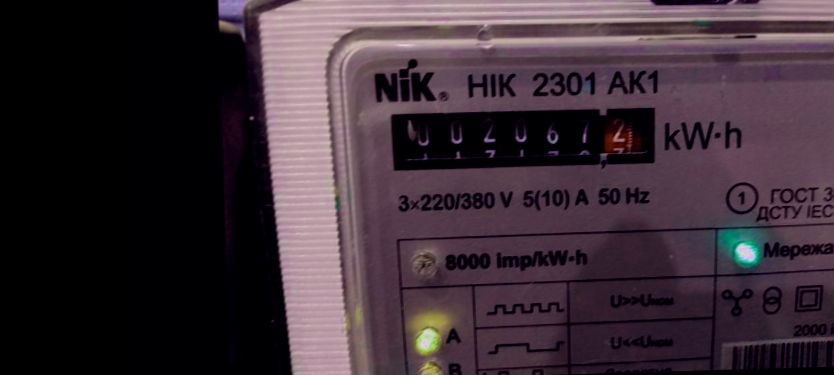0: (414, 119, 433, 149), (511, 115, 530, 143), (448, 117, 466, 146)
2: (610, 115, 629, 144), (481, 116, 499, 145)
6: (544, 117, 563, 146)
7: (577, 116, 594, 146)
screen: (378, 94, 672, 184)
